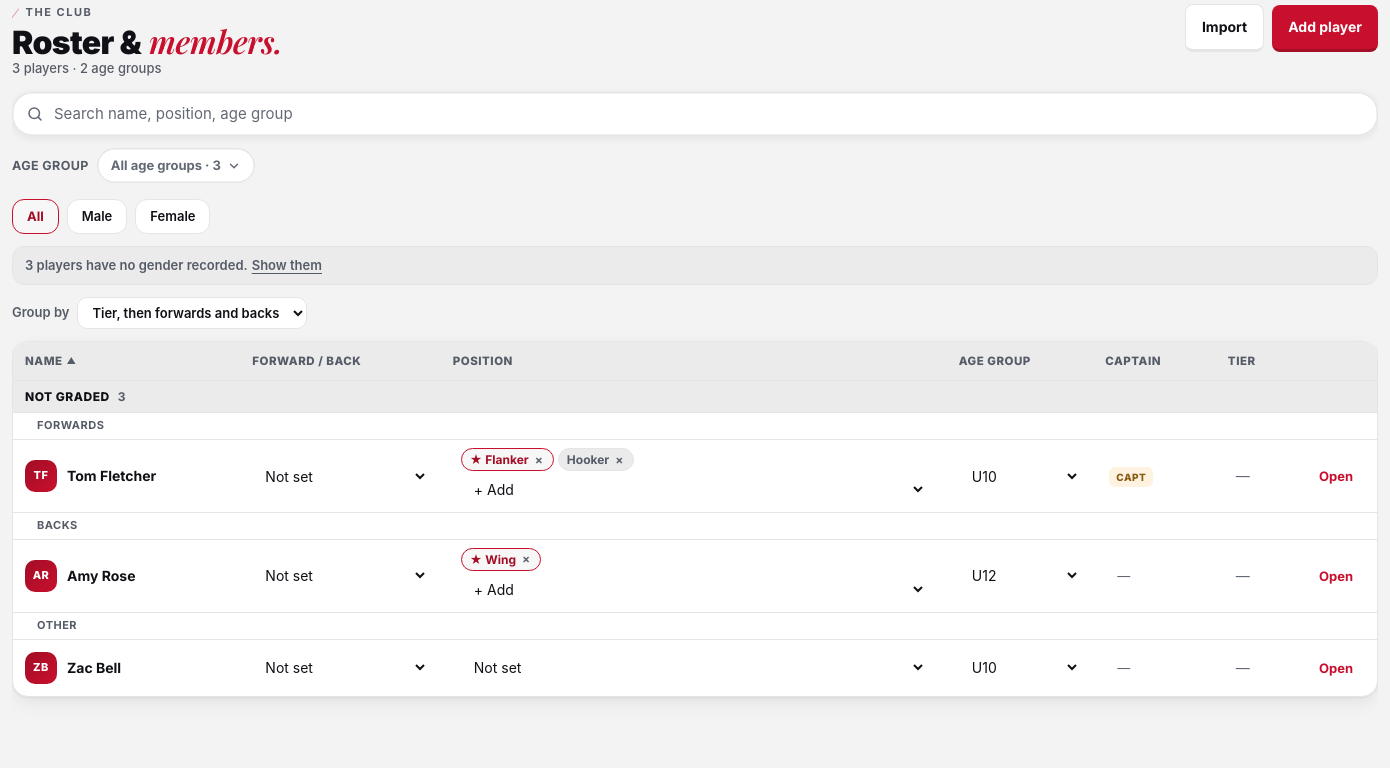
RosterTable — inline editing › clicking another chip makes it the main — the list is reordered, not rewritten
expect the table with test id "roster-table" is shown: met, box [13,342,1377,696]
Click the button with aria-label "Make Hooker the main position for Tom Fletcher". click: {"x": 588, "y": 460}
box: [567,450,609,469]
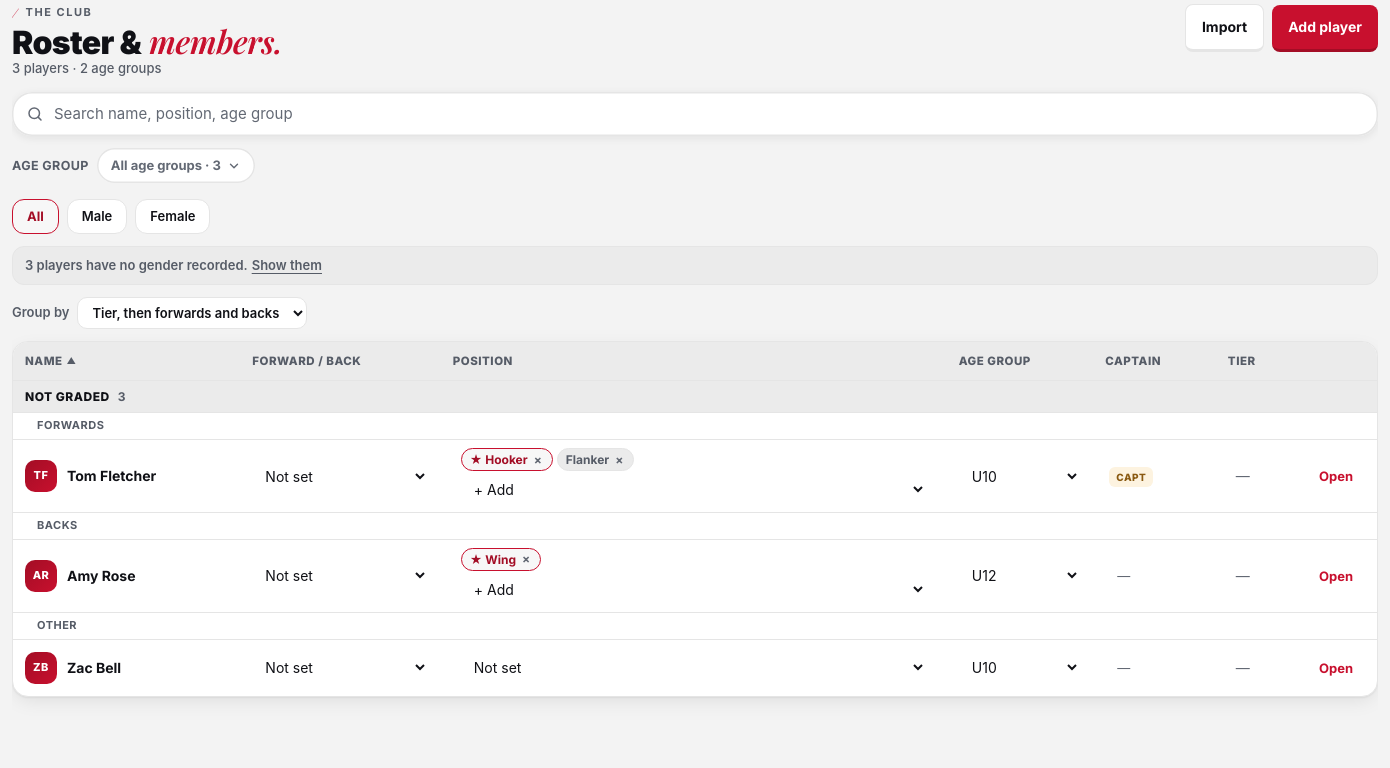
expect the button with aria-label "Hooker, main position for Tom Fletcher" is shown: met, box [470,450,528,469]
